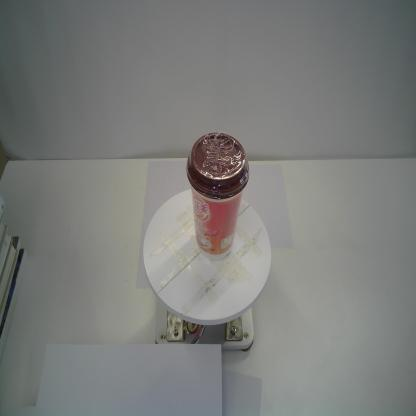Instant Drink: (186, 126, 251, 264)
